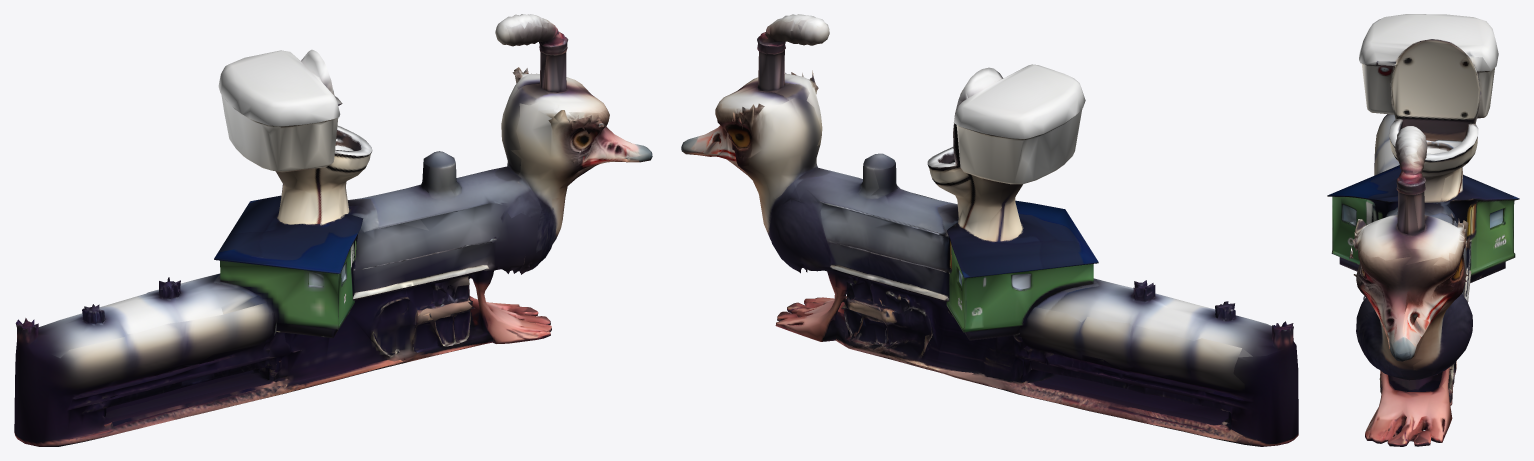
The model's file is TrenostruzzoTurbo3000.fbx.
3 renders of one model, left to right at view 1: azimuth 30°, elevation 25°; view 2: azimuth 150°, elevation 25°; view 3: azimuth 270°, elevation 25°, orthographic.
Parts seen in each view (by area): view 1: model; view 2: model; view 3: model.
Part boxes in pixels (left/top/right/bottom): model: left=14, top=14, right=652, bottom=446; model: left=681, top=14, right=1298, bottom=446; model: left=1327, top=14, right=1519, bottom=446.
Bounding box in the file's own units: 256 × 120 × 68.43.
1 material, 1 textured.
